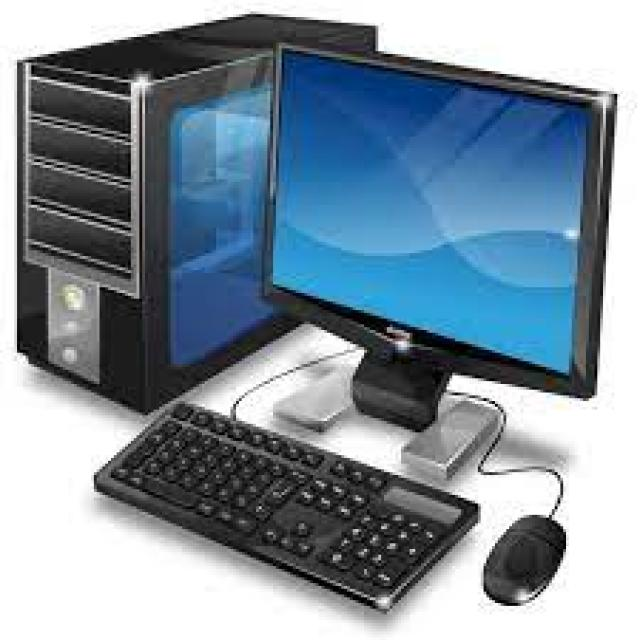keyboard: (97, 419, 459, 593)
komputer: (251, 50, 619, 420)
mouse: (478, 507, 579, 601)
